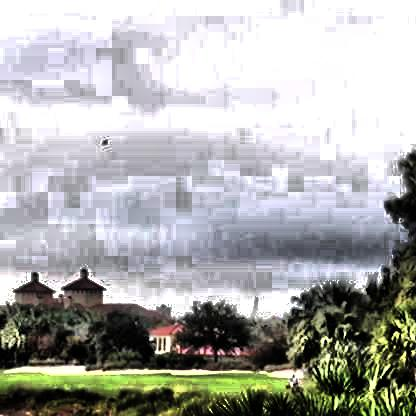golfball: (98, 135, 105, 142)
